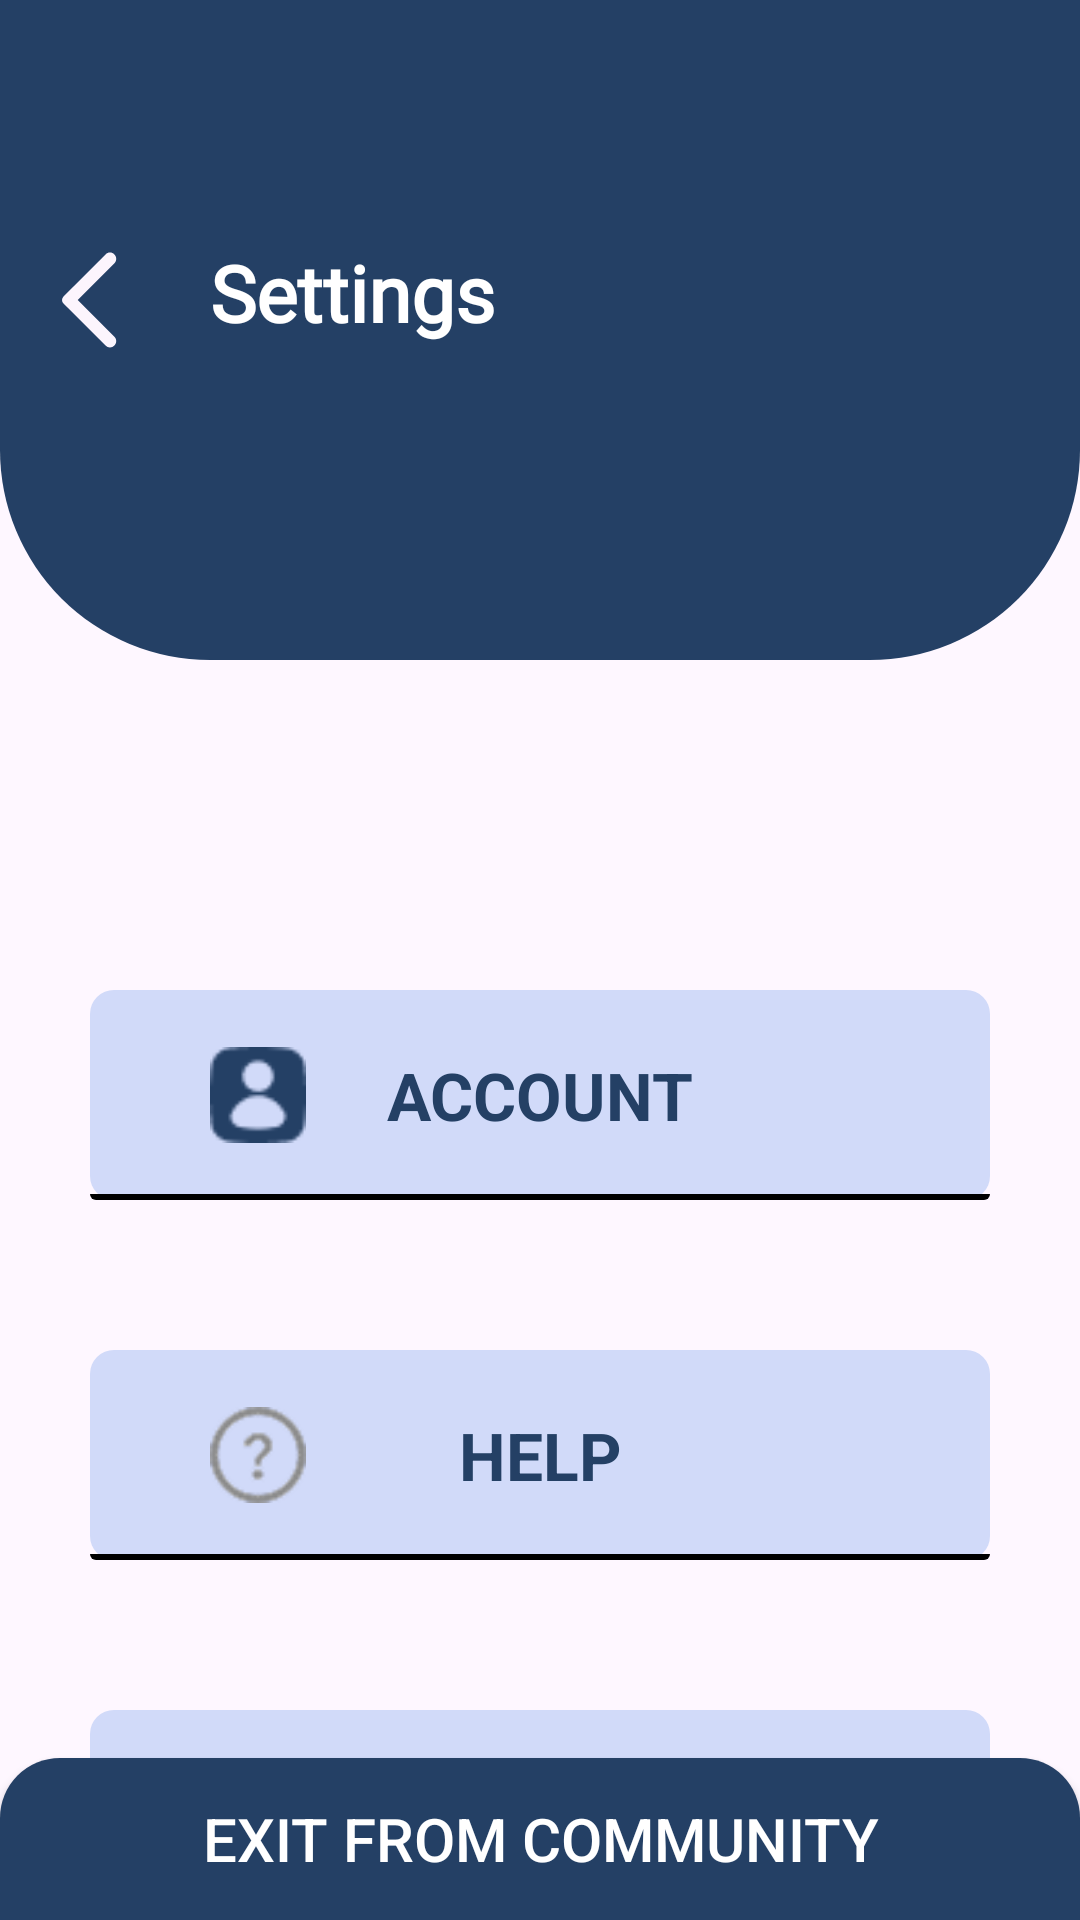

Point at icon controls on the screen. Image size 1080px x 1920px, points as [x,y].
arrowback: [89,300]
profileicon: [258,1095]
